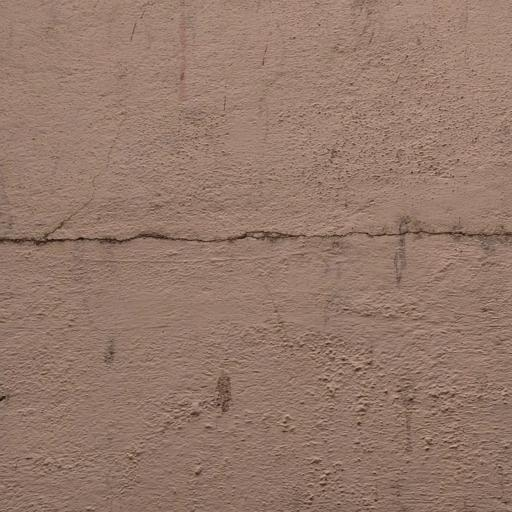minor_crack: (0, 206, 512, 245), (44, 93, 116, 256)
